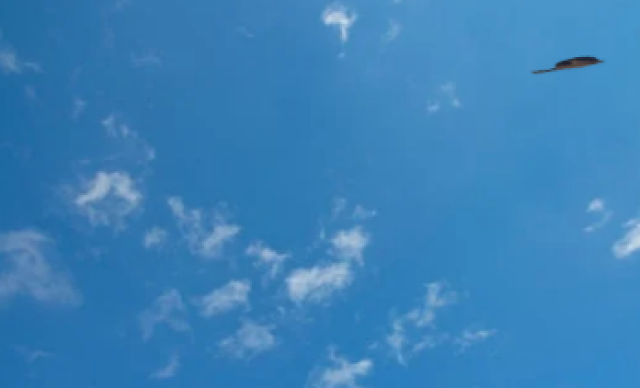military drone: (530, 54, 605, 74)
